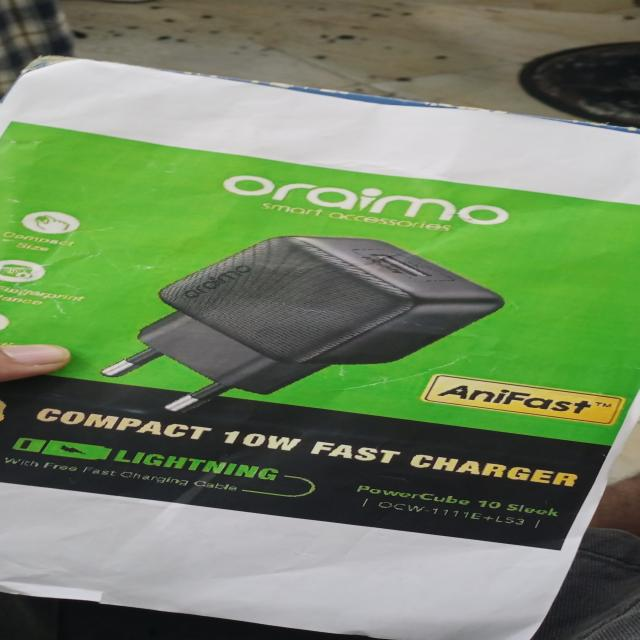PowerCube 10 Sleek OCW-1111ExL53: (345, 480, 582, 532)
